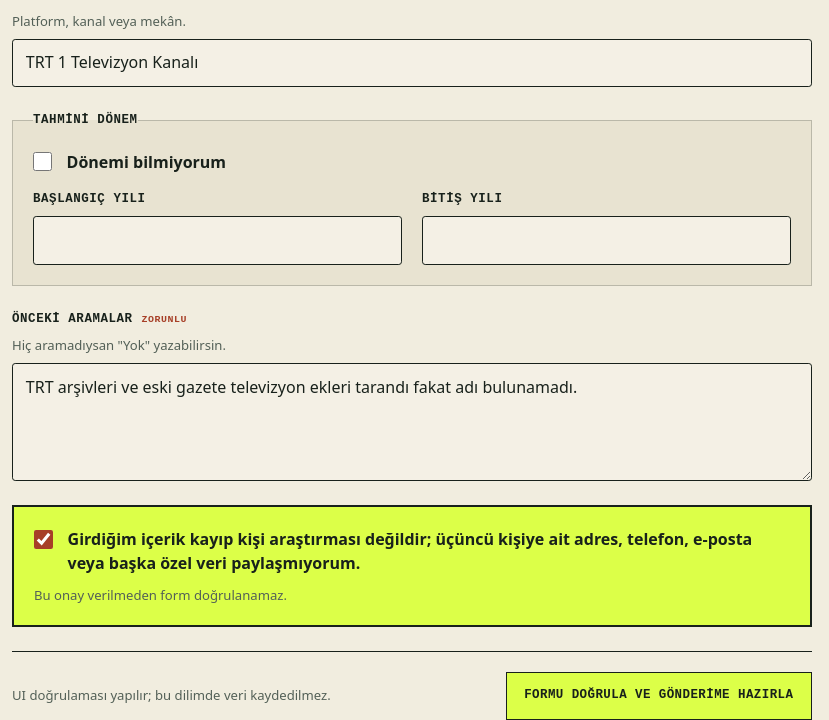
Test: CaseForm Component Davranış Testleri (FINAL-CASE-03) › AC-08: yearUnknown=false iken iki yıl da boşsa hata verir ve submit engellenir
(page scrolled)
Click the button "Formu doğrula ve gönderime hazırla" at coordinates (659, 696), box [506, 672, 812, 719]
(page scrolled)
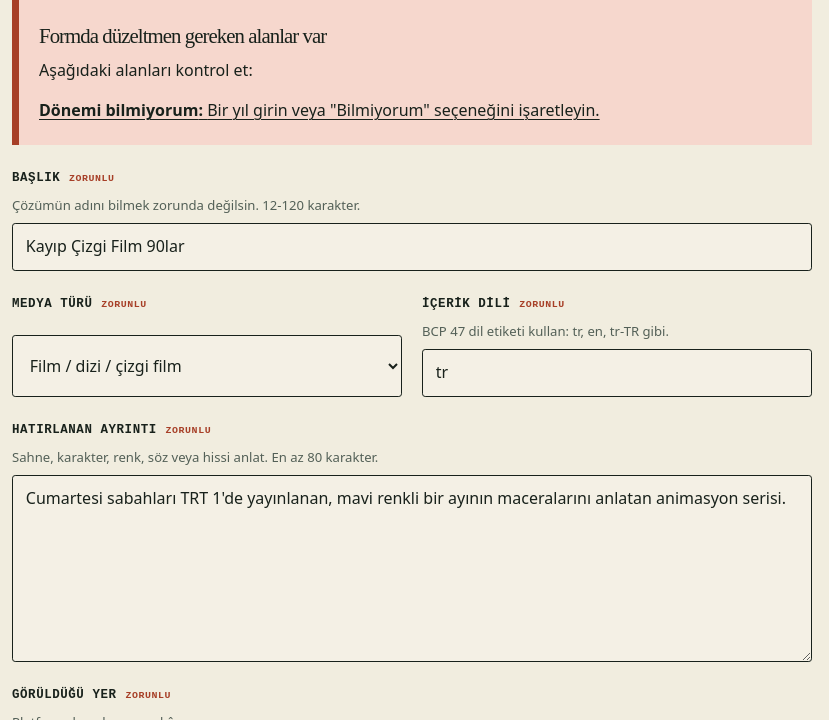
expect the message is shown: met, box [12, 0, 812, 145]
